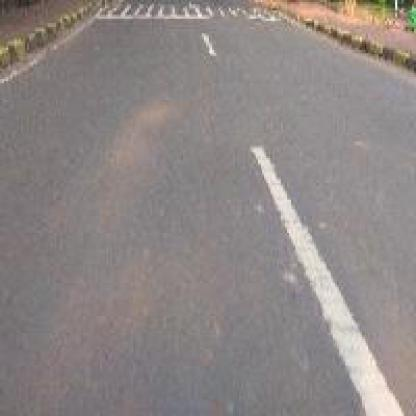Speed Bump: (94, 0, 293, 25)
